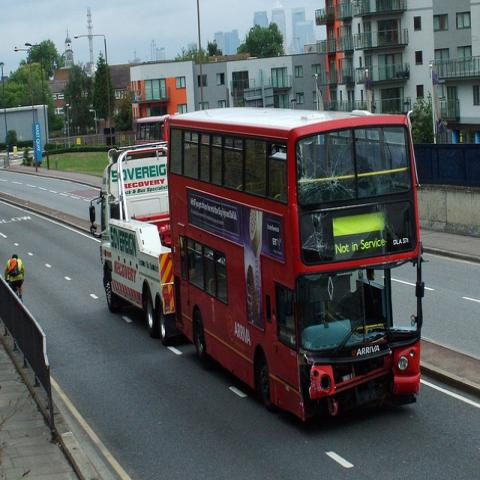bus: (162, 106, 432, 428)
truck: (89, 144, 178, 348)
